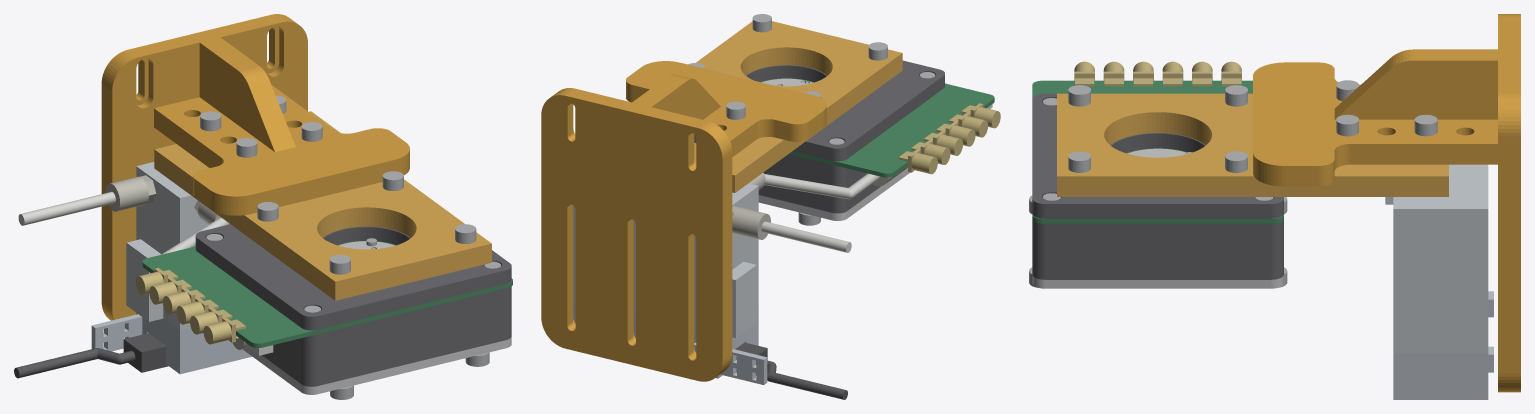
The model's file is v62_2t_dark.glb.
The picture shows the model from 3 angles, left to right: view 1: azimuth 30°, elevation 25°; view 2: azimuth 150°, elevation 25°; view 3: azimuth 270°, elevation 25°; orthographic projection. The views are drawn at different scales.
Parts seen in each view (by area): view 1: Grace 2025 앵글 브래킷 "angle bracket for Ramen holder.STEP" (형상 , Grace 새 세로판 60x120x7 (재출력, 레진 가정), Ø4.5 x4 48x48, Ø33, 배기 블록, 셀 몸체 v6.2 Al 6061 흑색 아노다이징 80x77x19 R4 (공동 69x62 깊이 9, 바닥 평평, 뒷판 V62 Al 6061 흑색 아노다이징 80x77x5 R4, M4 Ø4.5 x4, M3 카운터보어 x4,, 뒷면 PCB v6.2 표준 FR-4 1.6: 외곽 X −65…35 x Z ±38.5 R3, 창 Ø16, M4, [배기 블록 v2] 배기 센서 블록 본체 PETG 60x29x48.5 (가스 몸 17.5 + 센서 칸 31,, [배기 블록 v2] 덮개 PETG 60x29x16 (판 2 + Pico 트레이 14): Pico 보스 4, , SMA 엣지 잭 x6 Samtec SMA-J-P-H-ST-EM1 (CH1–CH6, Z 피치 9; 폭 6.35, [배기 블록 v2] USB 케이블 (노트북으로, 타이로 선반에 고정; 노트북은 허치 안 가능), 뚜껑 Al 6061 흑색 아노다이징 (마스킹 없음, 필름 접착면 포함): 판 80x77x3 (Y -12…-9, M4x18 렌치볼트 x4 (Grace 판 7 + 뒷판 5 + PCB 1.6 → 몸체 M4 탭, 물림 4.4), M4x16 볼트 + 너트 x4 (판 아래 구멍 ↔ 브래킷 세움판) (+4 smaller); view 2: Grace 2025 앵글 브래킷 "angle bracket for Ramen holder.STEP" (형상 , Grace 새 세로판 60x120x7 (재출력, 레진 가정), Ø4.5 x4 48x48, Ø33, 배기 블록, 뒷판 V62 Al 6061 흑색 아노다이징 80x77x5 R4, M4 Ø4.5 x4, M3 카운터보어 x4,, 뒷면 PCB v6.2 표준 FR-4 1.6: 외곽 X −65…35 x Z ±38.5 R3, 창 Ø16, M4, [배기 블록 v2] 배기 센서 블록 본체 PETG 60x29x48.5 (가스 몸 17.5 + 센서 칸 31,, 셀 몸체 v6.2 Al 6061 흑색 아노다이징 80x77x19 R4 (공동 69x62 깊이 9, 바닥 평평, SMA 엣지 잭 x6 Samtec SMA-J-P-H-ST-EM1 (CH1–CH6, Z 피치 9; 폭 6.35, [배기 블록 v2] 덮개 PETG 60x29x16 (판 2 + Pico 트레이 14): Pico 보스 4, , PU 관 Ø4 (셀 출구 엘보 → 배기 블록 v2 입구, 블록이 뒤로 6.6), [배기 블록 v2] USB 케이블 (노트북으로, 타이로 선반에 고정; 노트북은 허치 안 가능), 뚜껑 Al 6061 흑색 아노다이징 (마스킹 없음, 필름 접착면 포함): 판 80x77x3 (Y -12…-9, [배기 블록 v2] 배출 PU 관 Ø4 (토막만 그림, 실제 >= 300 mm) (+2 smaller); view 3: Grace 2025 앵글 브래킷 "angle bracket for Ramen holder.STEP" (형상 , Grace 새 세로판 60x120x7 (재출력, 레진 가정), Ø4.5 x4 48x48, Ø33, 배기 블록, [배기 블록 v2] 배기 센서 블록 본체 PETG 60x29x48.5 (가스 몸 17.5 + 센서 칸 31,, 셀 몸체 v6.2 Al 6061 흑색 아노다이징 80x77x19 R4 (공동 69x62 깊이 9, 바닥 평평, 뒷판 V62 Al 6061 흑색 아노다이징 80x77x5 R4, M4 Ø4.5 x4, M3 카운터보어 x4,, [배기 블록 v2] 덮개 PETG 60x29x16 (판 2 + Pico 트레이 14): Pico 보스 4, , 뒷면 PCB v6.2 표준 FR-4 1.6: 외곽 X −65…35 x Z ±38.5 R3, 창 Ø16, M4, SMA 엣지 잭 x6 Samtec SMA-J-P-H-ST-EM1 (CH1–CH6, Z 피치 9; 폭 6.35, 뚜껑 Al 6061 흑색 아노다이징 (마스킹 없음, 필름 접착면 포함): 판 80x77x3 (Y -12…-9, M4x18 렌치볼트 x4 (Grace 판 7 + 뒷판 5 + PCB 1.6 → 몸체 M4 탭, 물림 4.4), M4x16 볼트 + 너트 x4 (판 아래 구멍 ↔ 브래킷 세움판).
Boxes of the visible parts, x1,y1,x2,y2 form: Grace 2025 앵글 브래킷 "angle bracket for Ramen holder.STEP" (형상 : (101, 14, 409, 327); Grace 새 세로판 60x120x7 (재출력, 레진 가정), Ø4.5 x4 48x48, Ø33, 배기 블록: (154, 111, 491, 300); 셀 몸체 v6.2 Al 6061 흑색 아노다이징 80x77x19 R4 (공동 69x62 깊이 9, 바닥 평평: (262, 286, 511, 386); 뒷판 V62 Al 6061 흑색 아노다이징 80x77x5 R4, M4 Ø4.5 x4, M3 카운터보어 x4,: (195, 224, 511, 330); 뒷면 PCB v6.2 표준 FR-4 1.6: 외곽 X −65…35 x Z ±38.5 R3, 창 Ø16, M4: (142, 241, 512, 347); [배기 블록 v2] 배기 센서 블록 본체 PETG 60x29x48.5 (가스 몸 17.5 + 센서 칸 31,: (126, 162, 208, 330); [배기 블록 v2] 덮개 PETG 60x29x16 (판 2 + Pico 트레이 14): Pico 보스 4, : (91, 313, 251, 374); SMA 엣지 잭 x6 Samtec SMA-J-P-H-ST-EM1 (CH1–CH6, Z 피치 9; 폭 6.35: (135, 268, 245, 344); [배기 블록 v2] USB 케이블 (노트북으로, 타이로 선반에 고정; 노트북은 허치 안 가능): (14, 333, 168, 378); 뚜껑 Al 6061 흑색 아노다이징 (마스킹 없음, 필름 접착면 포함): 판 80x77x3 (Y -12…-9: (243, 337, 511, 394); M4x18 렌치볼트 x4 (Grace 판 7 + 뒷판 5 + PCB 1.6 → 몸체 M4 탭, 물림 4.4): (257, 171, 476, 274); M4x16 볼트 + 너트 x4 (판 아래 구멍 ↔ 브래킷 세움판): (200, 95, 322, 157); Grace 2025 앵글 브래킷 "angle bracket for Ramen holder.STEP" (형상 : (541, 61, 826, 381); Grace 새 세로판 60x120x7 (재출력, 레진 가정), Ø4.5 x4 48x48, Ø33, 배기 블록: (696, 21, 902, 192); 뒷판 V62 Al 6061 흑색 아노다이징 80x77x5 R4, M4 Ø4.5 x4, M3 카운터보어 x4,: (746, 60, 944, 161); 뒷면 PCB v6.2 표준 FR-4 1.6: 외곽 X −65…35 x Z ±38.5 R3, 창 Ø16, M4: (760, 78, 994, 177); [배기 블록 v2] 배기 센서 블록 본체 PETG 60x29x48.5 (가스 몸 17.5 + 센서 칸 31,: (573, 183, 758, 338); 셀 몸체 v6.2 Al 6061 흑색 아노다이징 80x77x19 R4 (공동 69x62 깊이 9, 바닥 평평: (758, 154, 880, 213); SMA 엣지 잭 x6 Samtec SMA-J-P-H-ST-EM1 (CH1–CH6, Z 피치 9; 폭 6.35: (898, 103, 1000, 174); [배기 블록 v2] 덮개 PETG 60x29x16 (판 2 + Pico 트레이 14): Pico 보스 4, : (573, 303, 767, 384); PU 관 Ø4 (셀 출구 엘보 → 배기 블록 v2 입구, 블록이 뒤로 6.6): (764, 173, 880, 199); [배기 블록 v2] USB 케이블 (노트북으로, 타이로 선반에 고정; 노트북은 허치 안 가능): (735, 342, 847, 399); 뚜껑 Al 6061 흑색 아노다이징 (마스킹 없음, 필름 접착면 포함): 판 80x77x3 (Y -12…-9: (758, 168, 909, 220); [배기 블록 v2] 배출 PU 관 Ø4 (토막만 그림, 실제 >= 300 mm): (761, 221, 851, 252); Grace 2025 앵글 브래킷 "angle bracket for Ramen holder.STEP" (형상 : (1253, 14, 1520, 392); Grace 새 세로판 60x120x7 (재출력, 레진 가정), Ø4.5 x4 48x48, Ø33, 배기 블록: (1057, 93, 1448, 196); [배기 블록 v2] 배기 센서 블록 본체 PETG 60x29x48.5 (가스 몸 17.5 + 센서 칸 31,: (1385, 164, 1488, 352); 셀 몸체 v6.2 Al 6061 흑색 아노다이징 80x77x19 R4 (공동 69x62 깊이 9, 바닥 평평: (1032, 220, 1283, 279); 뒷판 V62 Al 6061 흑색 아노다이징 80x77x5 R4, M4 Ø4.5 x4, M3 카운터보어 x4,: (1032, 93, 1283, 218); [배기 블록 v2] 덮개 PETG 60x29x16 (판 2 + Pico 트레이 14): Pico 보스 4, : (1393, 291, 1493, 399); 뒷면 PCB v6.2 표준 FR-4 1.6: 외곽 X −65…35 x Z ±38.5 R3, 창 Ø16, M4: (1032, 80, 1283, 223); SMA 엣지 잭 x6 Samtec SMA-J-P-H-ST-EM1 (CH1–CH6, Z 피치 9; 폭 6.35: (1074, 61, 1241, 86); 뚜껑 Al 6061 흑색 아노다이징 (마스킹 없음, 필름 접착면 포함): 판 80x77x3 (Y -12…-9: (1032, 275, 1283, 288); M4x18 렌치볼트 x4 (Grace 판 7 + 뒷판 5 + PCB 1.6 → 몸체 M4 탭, 물림 4.4): (1068, 85, 1247, 172); M4x16 볼트 + 너트 x4 (판 아래 구멍 ↔ 브래킷 세움판): (1336, 80, 1437, 136).
Bounding box in the file's own units: 117 × 104 × 150.
